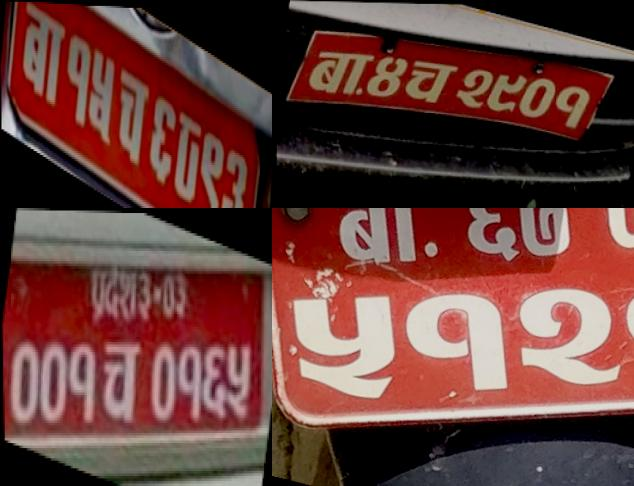0: (319, 208, 435, 275), (2, 332, 47, 426), (33, 334, 75, 426), (144, 337, 185, 424), (516, 68, 558, 122), (158, 271, 179, 316)
1: (505, 273, 632, 388), (59, 20, 95, 142), (60, 335, 106, 424), (170, 331, 211, 421), (548, 77, 595, 134)
2: (448, 59, 495, 115)
3: (391, 277, 524, 398), (217, 127, 252, 208), (132, 266, 158, 320), (171, 262, 192, 316)
4: (454, 208, 528, 263), (365, 50, 410, 102)
5: (84, 36, 122, 160), (218, 333, 256, 420)
6: (272, 272, 409, 406), (143, 74, 180, 202), (195, 341, 230, 418)
7: (501, 208, 582, 263)
8: (170, 92, 204, 208), (585, 208, 634, 257)
9: (194, 109, 228, 208), (484, 66, 527, 122)
ba: (18, 1, 68, 119), (303, 37, 378, 104)
cha: (91, 329, 148, 427), (112, 54, 153, 180), (401, 51, 458, 111)
